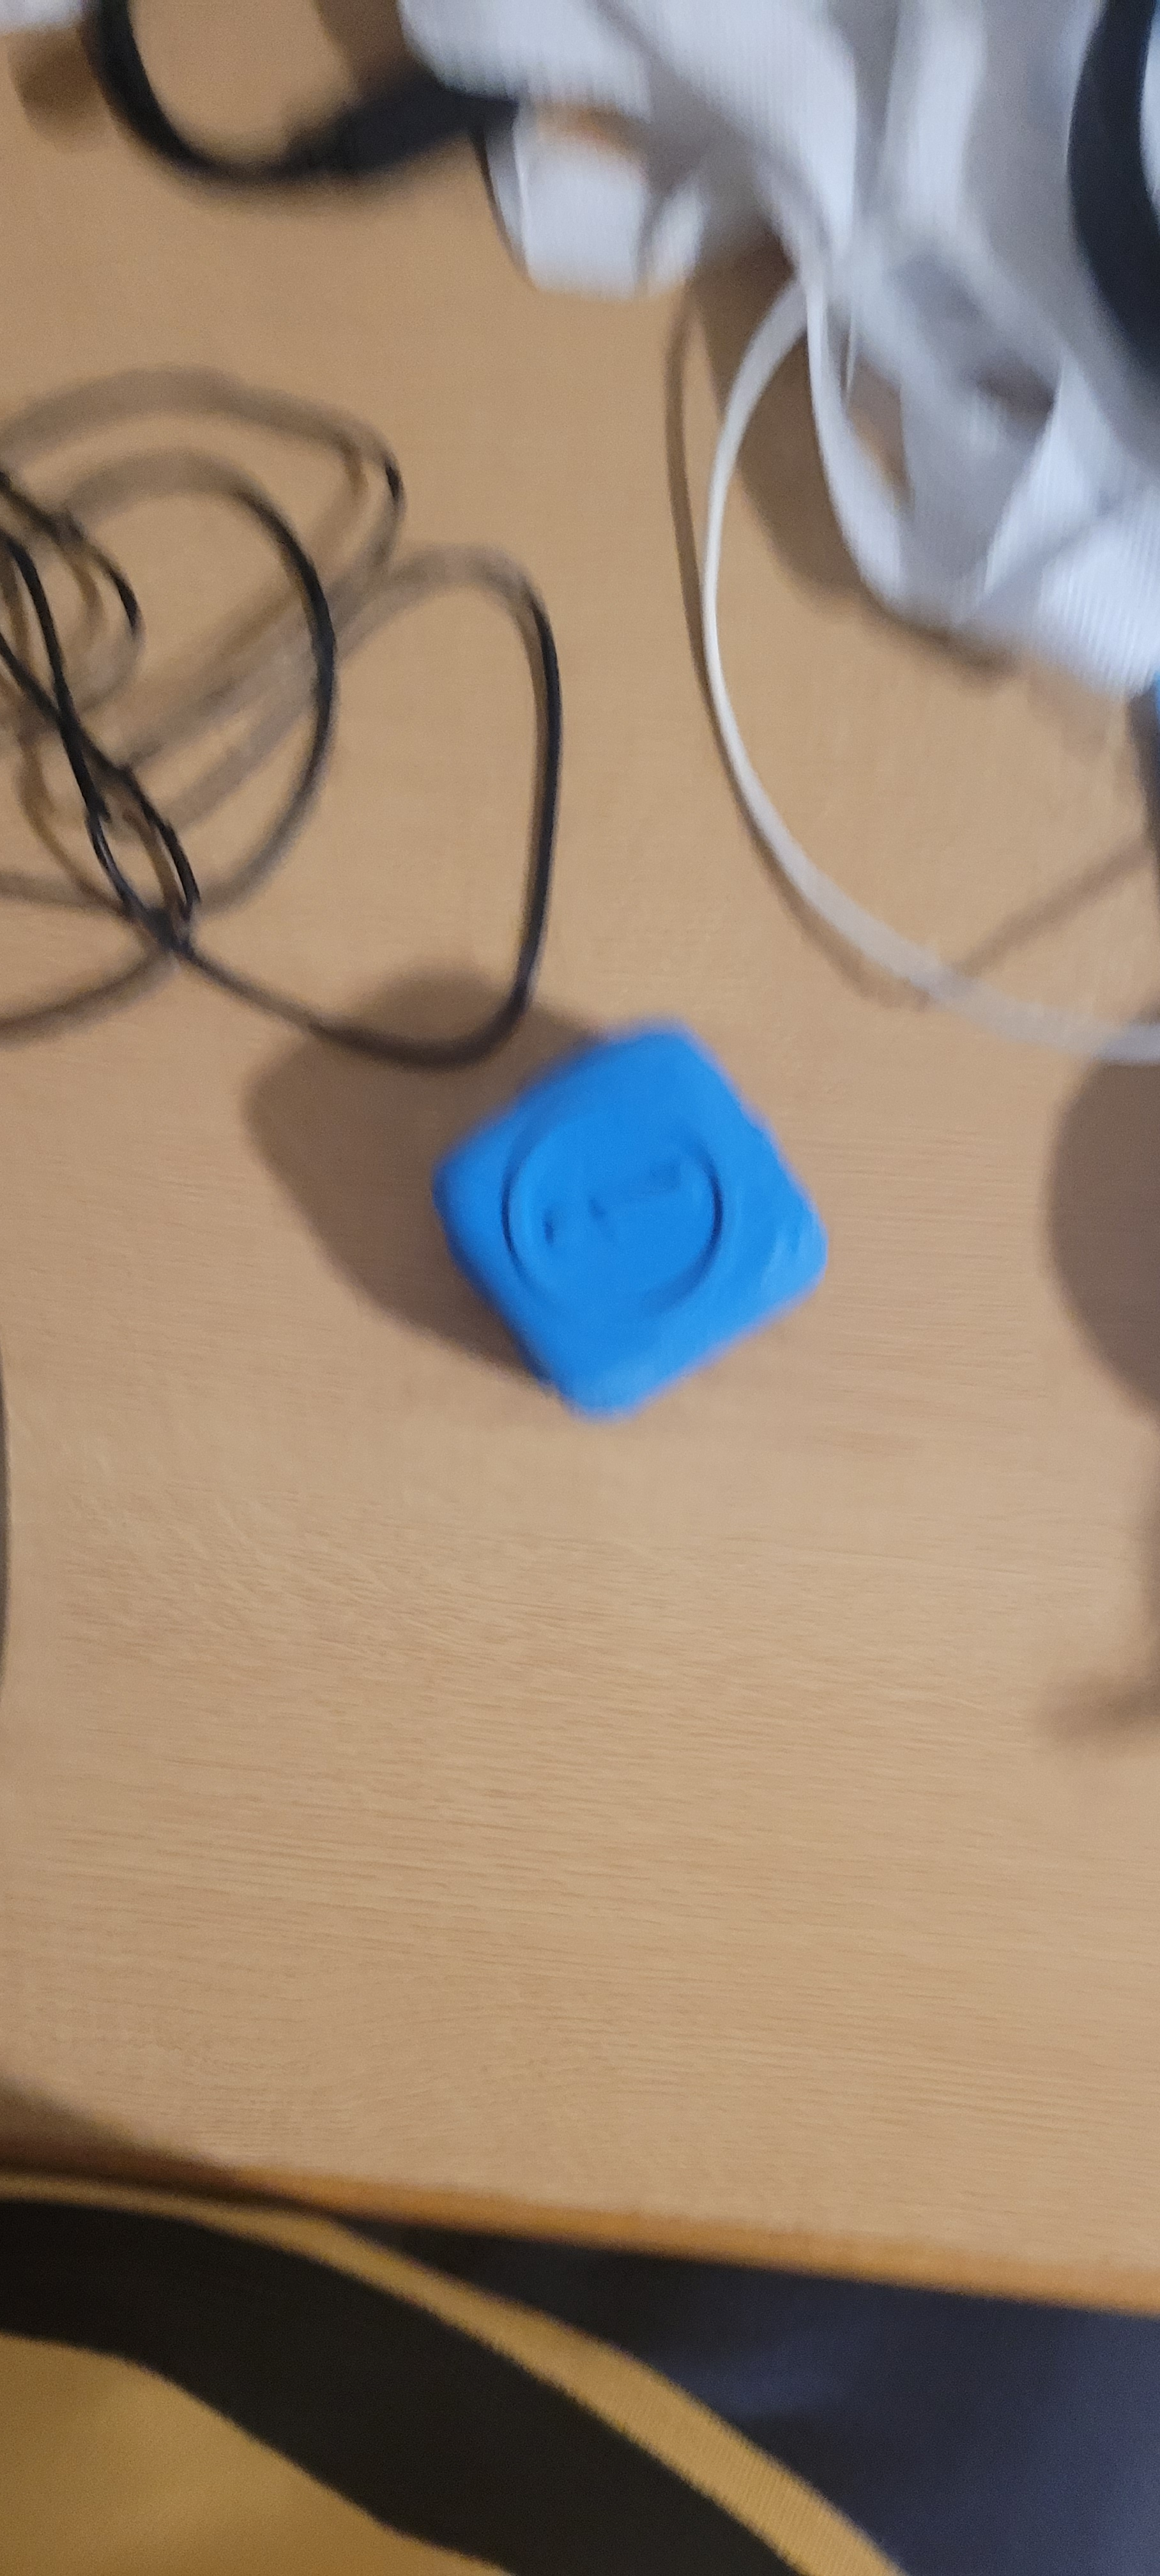Info: (490, 1056, 784, 1311)
